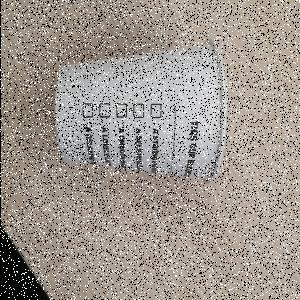Cup: (54, 39, 228, 185)
